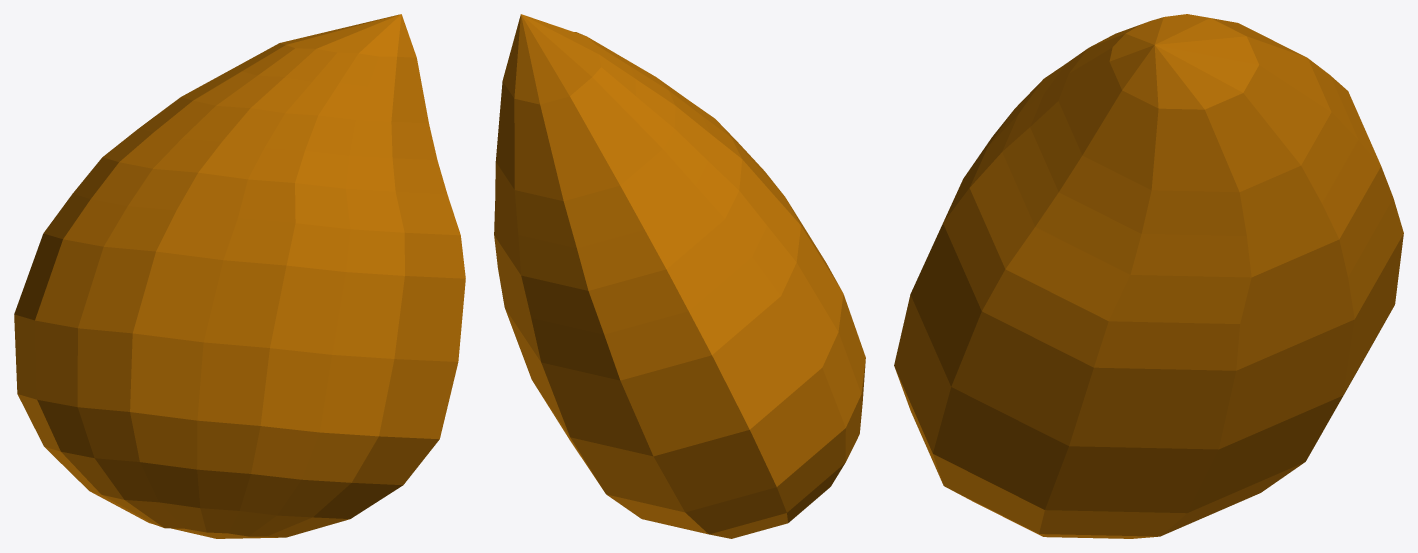
The model's file is GotaResina.fbx.
3 renders of one model, left to right at view 1: azimuth 30°, elevation 25°; view 2: azimuth 150°, elevation 25°; view 3: azimuth 270°, elevation 25°, orthographic. The views are drawn at different scales.
Visible parts, largest first — view 1: Resina; view 2: Resina; view 3: Resina.
Boxes of the visible parts, left/top/right/bottom form: Resina: left=14, top=14, right=465, bottom=538; Resina: left=494, top=14, right=865, bottom=538; Resina: left=894, top=14, right=1403, bottom=538.
Size of the model in its own units: 1.85 by 2.22 by 1.77.
